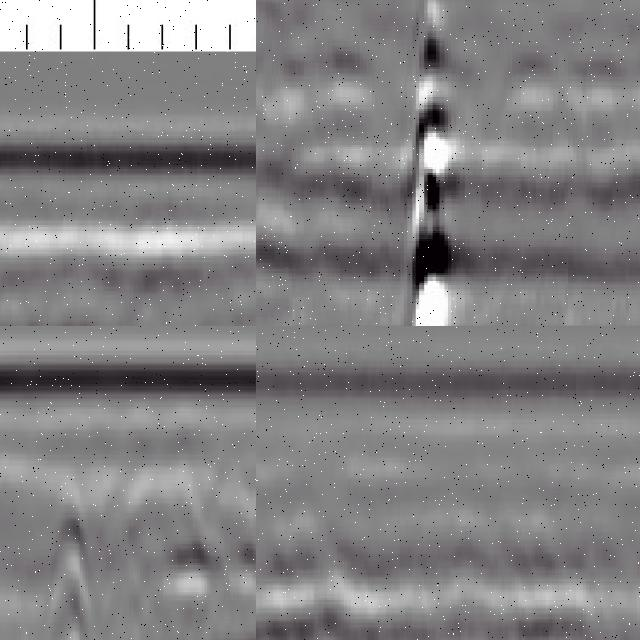crack: (406, 1, 452, 327)
loose: (38, 512, 257, 640)
